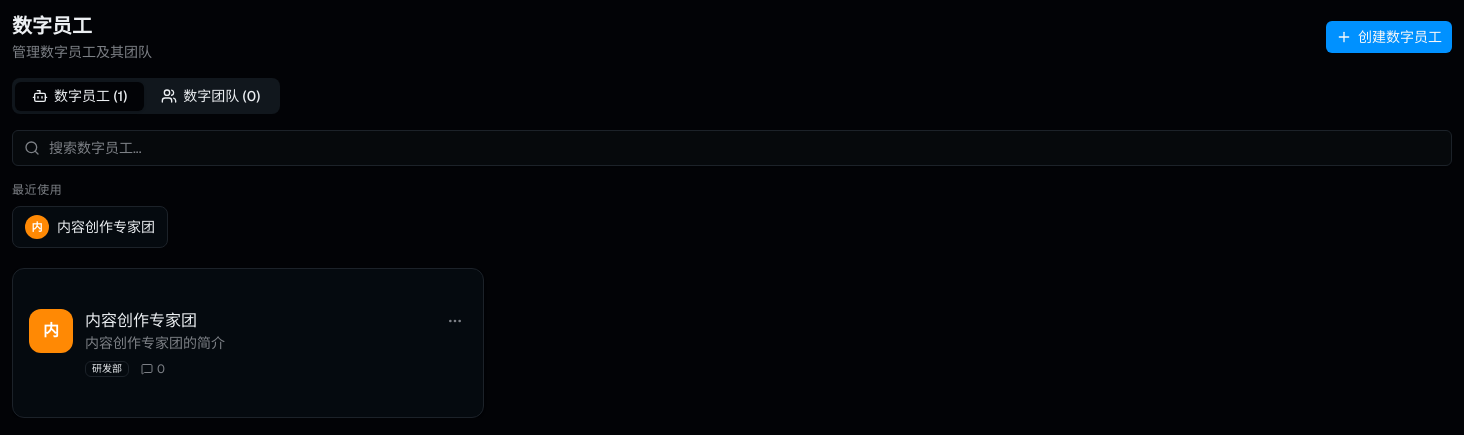
DE-3：建出来的团队必须显示 › /api/teams 有数据时，团队卡片出现在列表里
Click the tab "数字团队 (0)" at (211, 96), box left=144, top=82, right=277, bottom=110
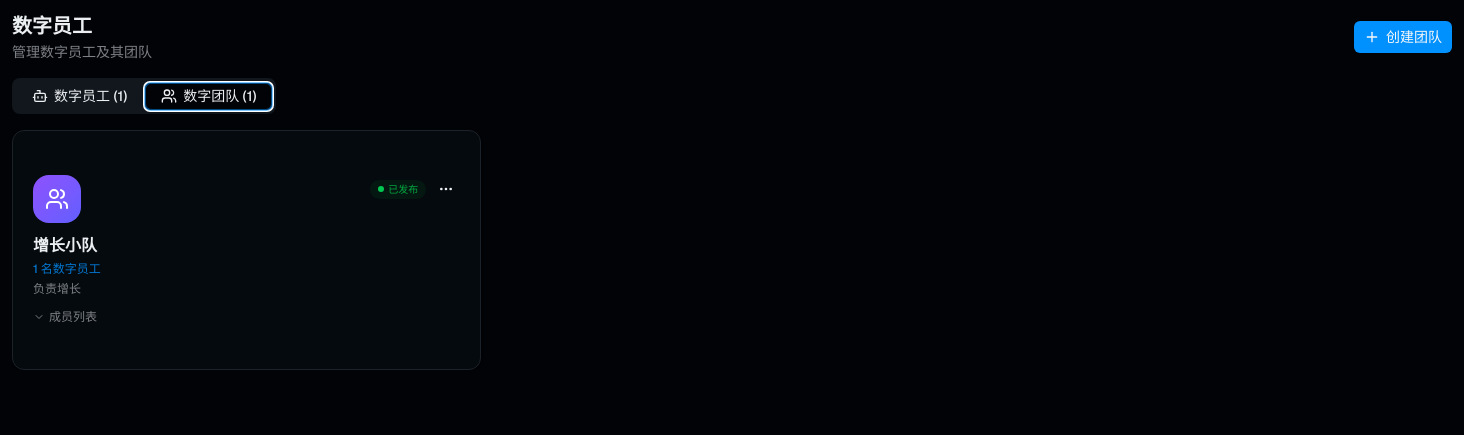
Expected: the heading "增长小队" is shown, left=33, top=235, right=97, bottom=256
